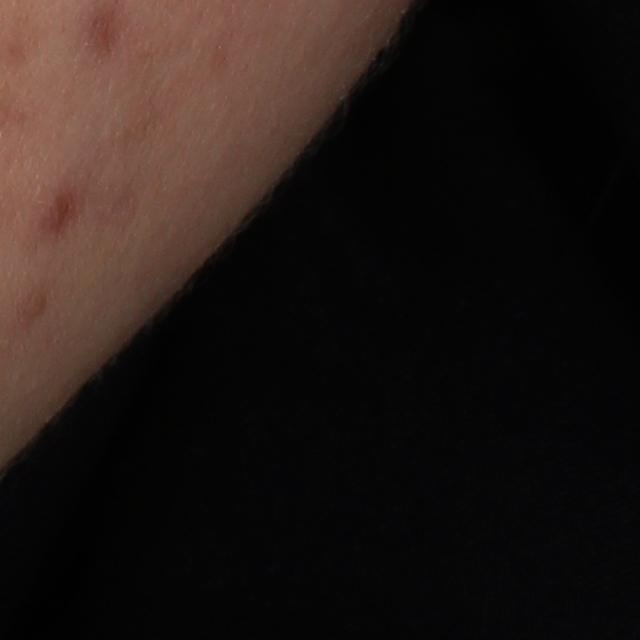papule: (37, 192, 72, 233)
